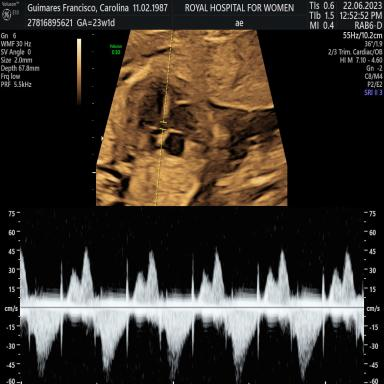Ultrasound-Waves: (25, 211, 363, 384)
